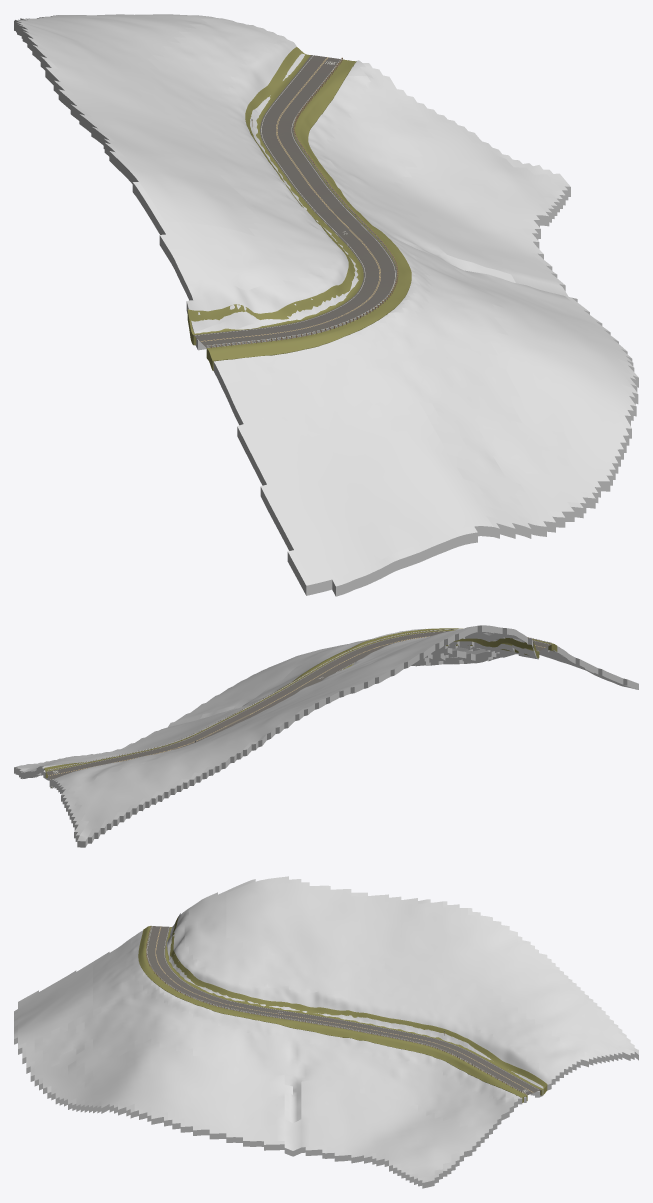
Rendered from conz_8.glb.
3 renders of one model, top to bottom at view 1: azimuth 30°, elevation 25°; view 2: azimuth 150°, elevation 25°; view 3: azimuth 270°, elevation 25°, orthographic. The views are drawn at different scales.
Visible parts, largest first — view 1: terrain8, road8, verge8L, verge8R, posts8_10075; view 2: terrain8, road8, verge8L, beam8_10075, verge8R; view 3: terrain8, road8, verge8L, verge8R, beam8_10075.
Boxes of the visible parts, box(x1,y1,x2,y2) form: terrain8: box(14, 14, 638, 596); road8: box(194, 55, 396, 347); verge8L: box(206, 59, 411, 370); verge8R: box(187, 47, 363, 345); posts8_10075: box(210, 57, 398, 348); terrain8: box(14, 625, 638, 847); road8: box(46, 631, 551, 780); verge8L: box(44, 628, 557, 777); beam8_10075: box(48, 629, 551, 770); verge8R: box(51, 637, 539, 787); terrain8: box(14, 876, 638, 1188); road8: box(147, 926, 540, 1094); verge8L: box(138, 926, 527, 1102); verge8R: box(165, 917, 547, 1095); beam8_10075: box(146, 927, 525, 1092).
Size of the model in its own units: 194 by 81.51 by 300.
